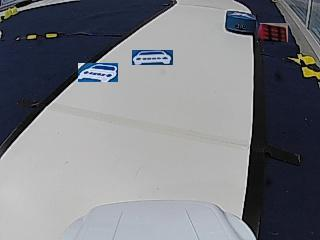prop: (224, 11, 256, 34)
